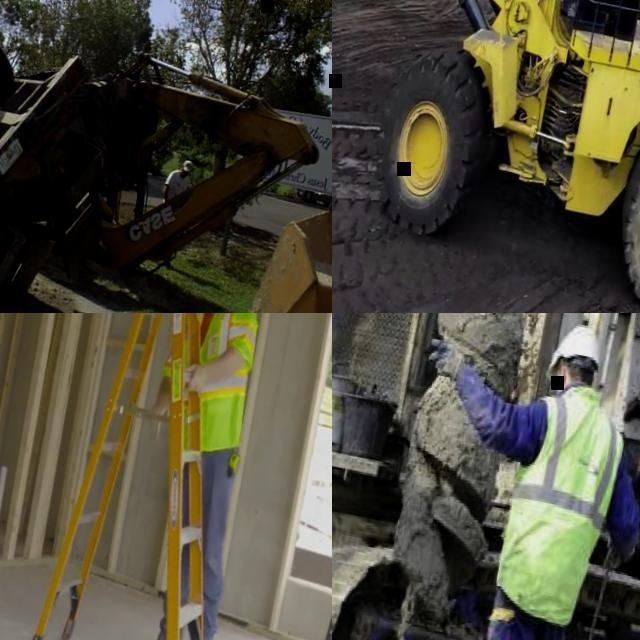Hardhat: (543, 320, 603, 384)
NO-Hardhat: (182, 157, 193, 172)
NO-Mask: (177, 173, 185, 179)
NO-Safety Vest: (167, 170, 188, 198)
Person: (343, 313, 640, 640), (120, 313, 296, 640), (332, 313, 430, 378), (148, 155, 196, 269)
Safety Vest: (484, 377, 636, 629), (156, 313, 268, 411)
machinery: (0, 0, 328, 313), (332, 313, 640, 640), (332, 0, 640, 313), (140, 171, 332, 313)
vehicle: (315, 173, 332, 213)
